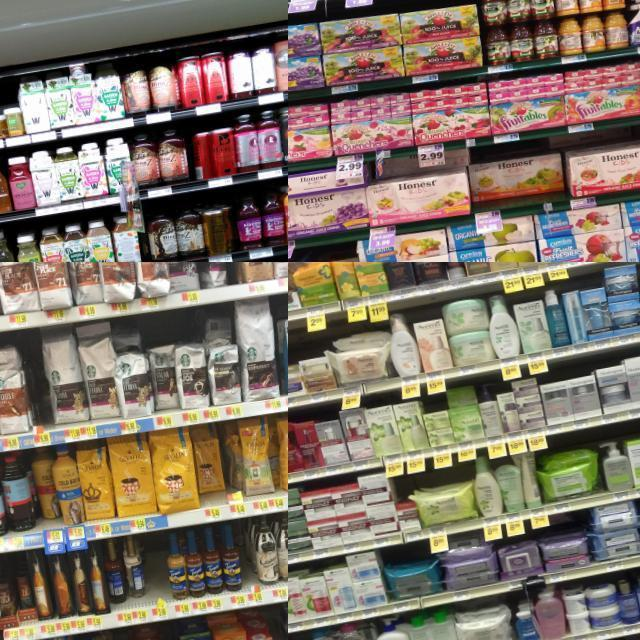Imprecise: (367, 147, 475, 225), (468, 152, 570, 212), (189, 425, 238, 509), (110, 327, 150, 419), (104, 538, 146, 612), (208, 313, 240, 406), (32, 446, 64, 535)
